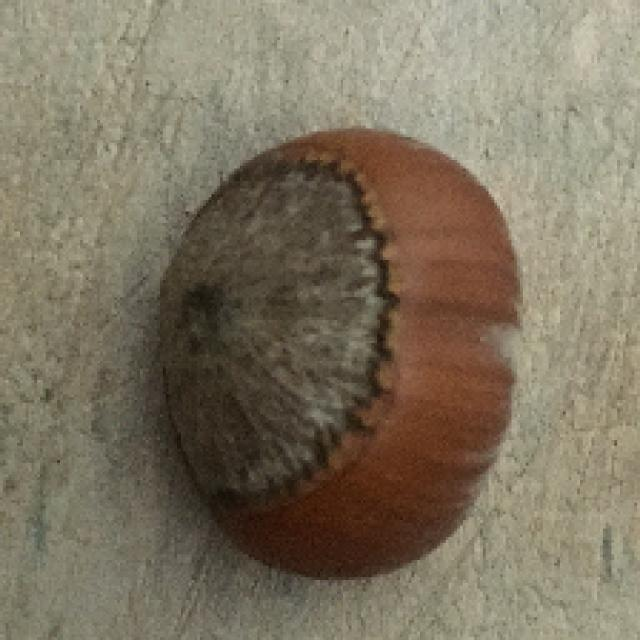qualityHazelnut: (154, 123, 529, 579)
